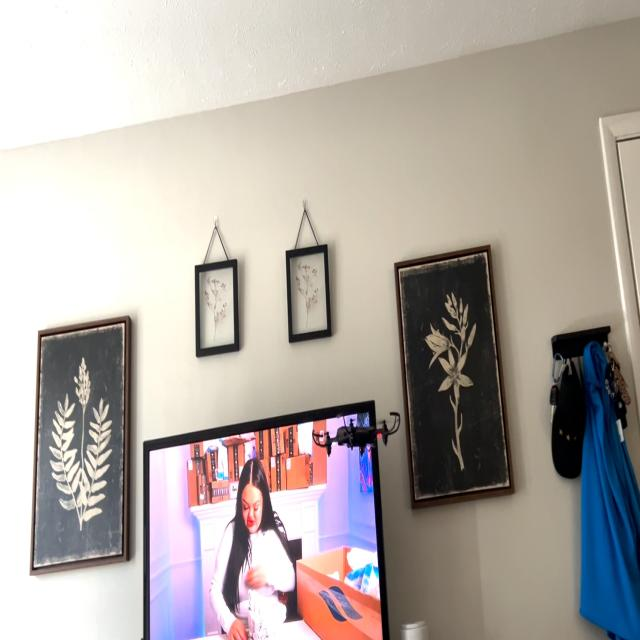drone: (301, 393, 416, 466)
